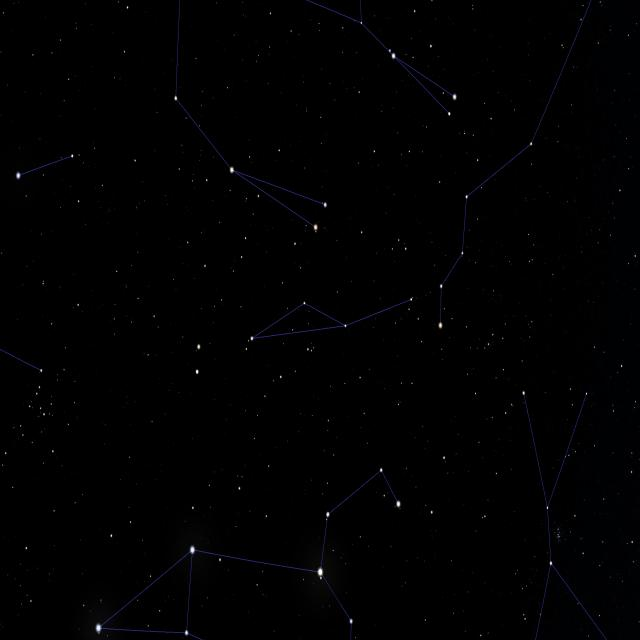Leo Minor: (241, 277, 420, 356)
